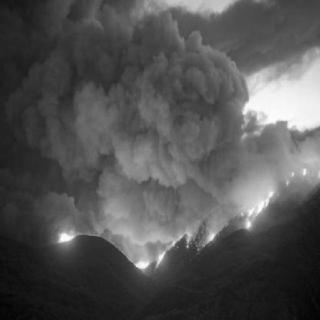Fire: (133, 210, 219, 276), (57, 225, 79, 243)
